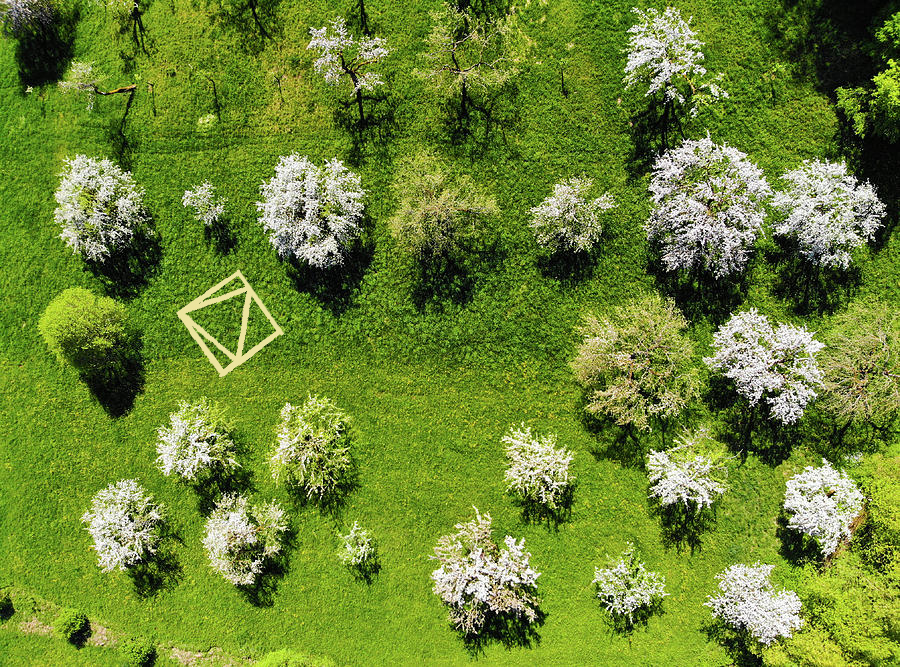marker: (170, 266, 286, 381)
